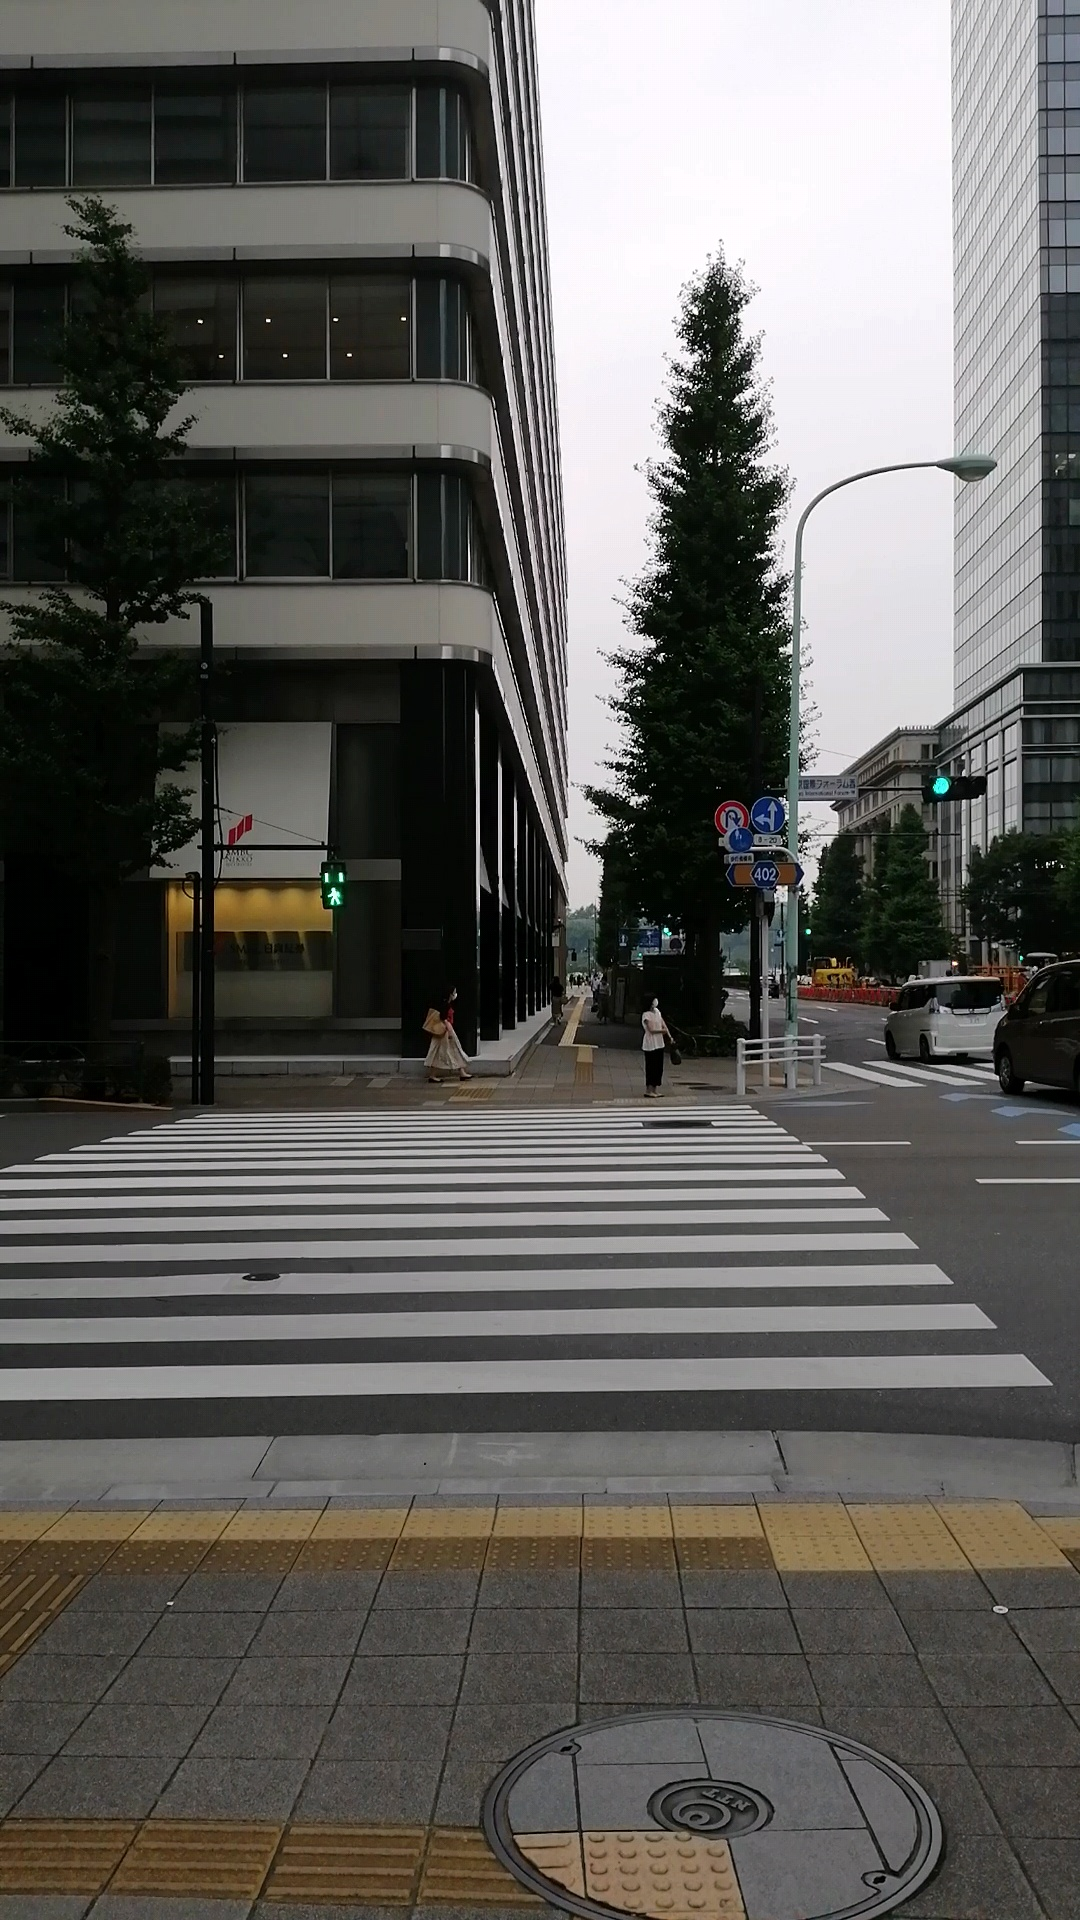green: (318, 860, 349, 910)
